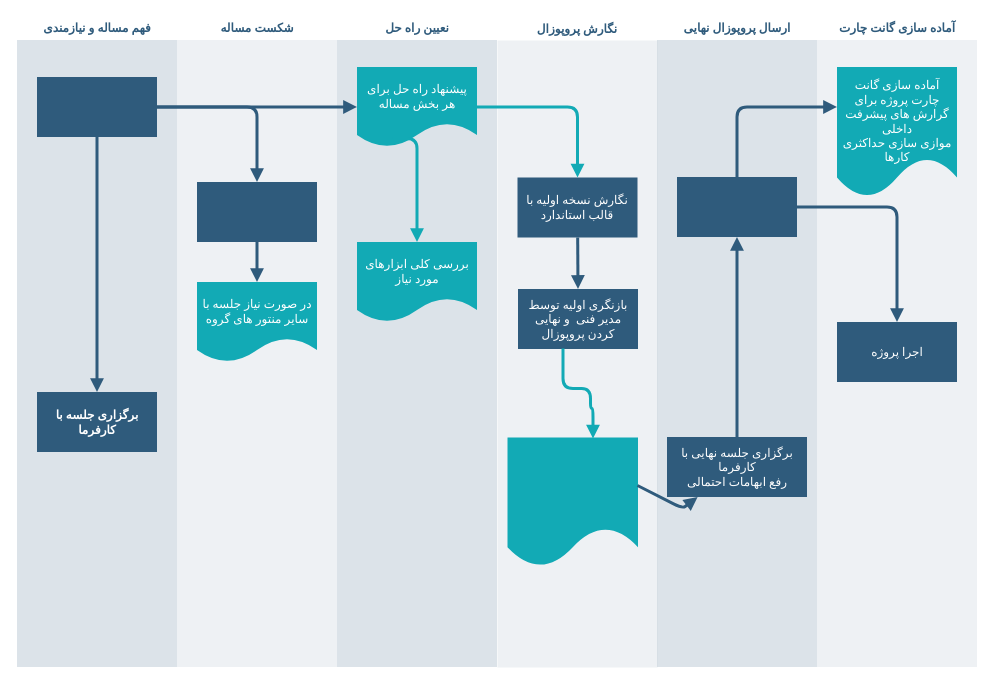
Some shapes in this 994 by 685 pixel diagram are drawn without their labels. The shapes that lost their labels are listed below. From the top down, each one's centre as x and y in pixels, then its label:
[96,106]: RFP دریافت
[256,212]: بررسی سند نیازمندی و برگزاری جلسه در تیم مجری
[736,206]: تعیین محصول یا زیرمحصول های تحویلی
[572,501]: تخمین موارد قابل تحویل بازنگری نهایی توسط مدیر پژوهشکده تعیین جلسه دفاع
